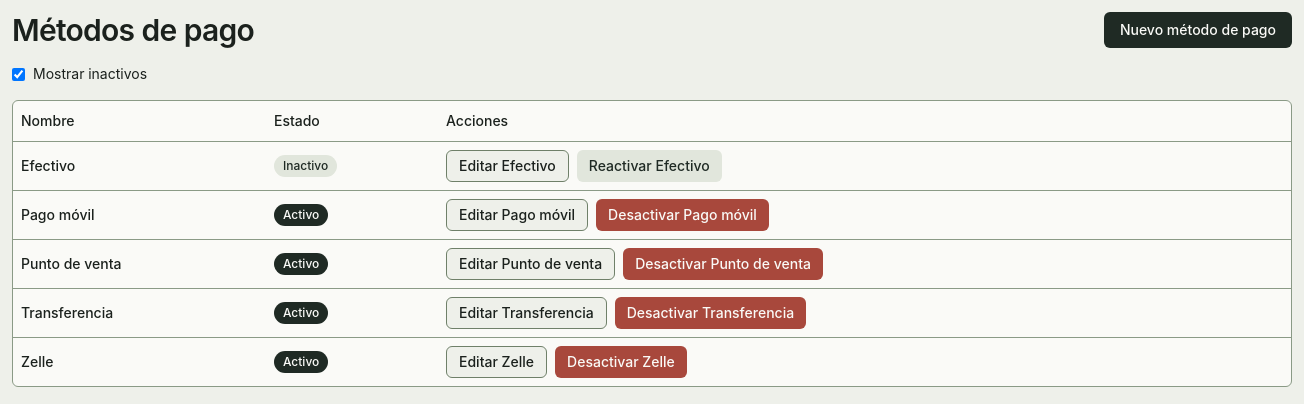
Test: PaymentMethodsPage › el filtro Mostrar inactivos oculta los inactivos
Expected: the row "Efectivo Inactivo Editar Efectivo Reactivar Efectivo" is shown, [13,142,1291,190]
Click the checkbox labelled "Mostrar inactivos": point(18, 74) [12,68,25,80]
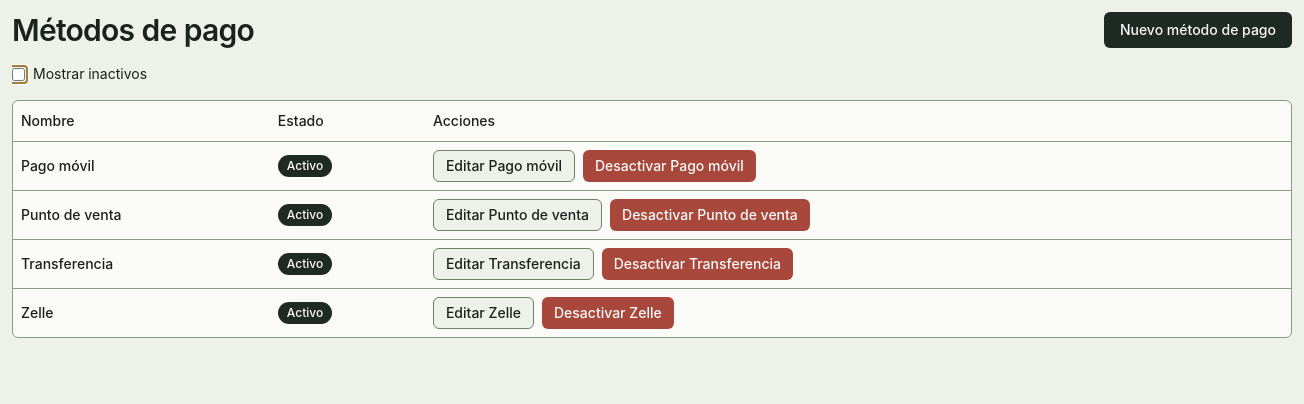
Expected: the row "Zelle Activo Editar Zelle Desactivar Zelle" is shown, [13,288,1291,336]
Expected: the cell "Efectivo" is gone
